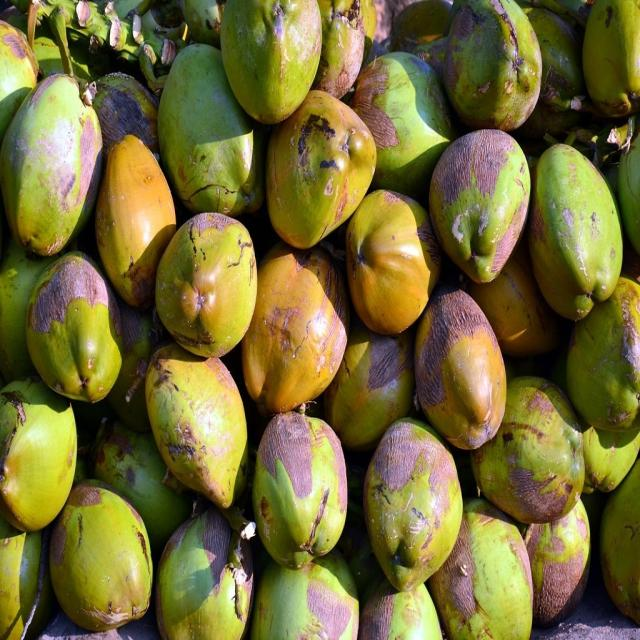coconut: (242, 241, 348, 419), (158, 42, 264, 218), (3, 68, 102, 254), (363, 418, 464, 590), (146, 344, 250, 510), (471, 377, 587, 525), (527, 142, 622, 313), (267, 91, 369, 248), (429, 129, 532, 283), (49, 480, 154, 631), (251, 410, 348, 568), (154, 213, 258, 359), (415, 287, 508, 450), (425, 502, 535, 636), (94, 136, 178, 309), (24, 252, 120, 402), (86, 420, 191, 554), (355, 53, 451, 198), (441, 0, 543, 132), (153, 504, 254, 637), (347, 189, 435, 336), (220, 0, 319, 123), (0, 376, 77, 531), (328, 313, 411, 451), (565, 279, 640, 429), (468, 245, 566, 358), (250, 548, 357, 638), (518, 8, 589, 138), (0, 236, 61, 384), (522, 496, 590, 628), (104, 294, 161, 428), (90, 70, 163, 166), (599, 450, 639, 622), (583, 0, 640, 116), (1, 516, 54, 636), (0, 18, 40, 170), (307, 1, 365, 99), (575, 408, 640, 492), (290, 241, 345, 340), (616, 110, 640, 262), (390, 0, 452, 56), (30, 35, 86, 83), (180, 1, 228, 48), (417, 35, 454, 84), (2, 7, 31, 38)
